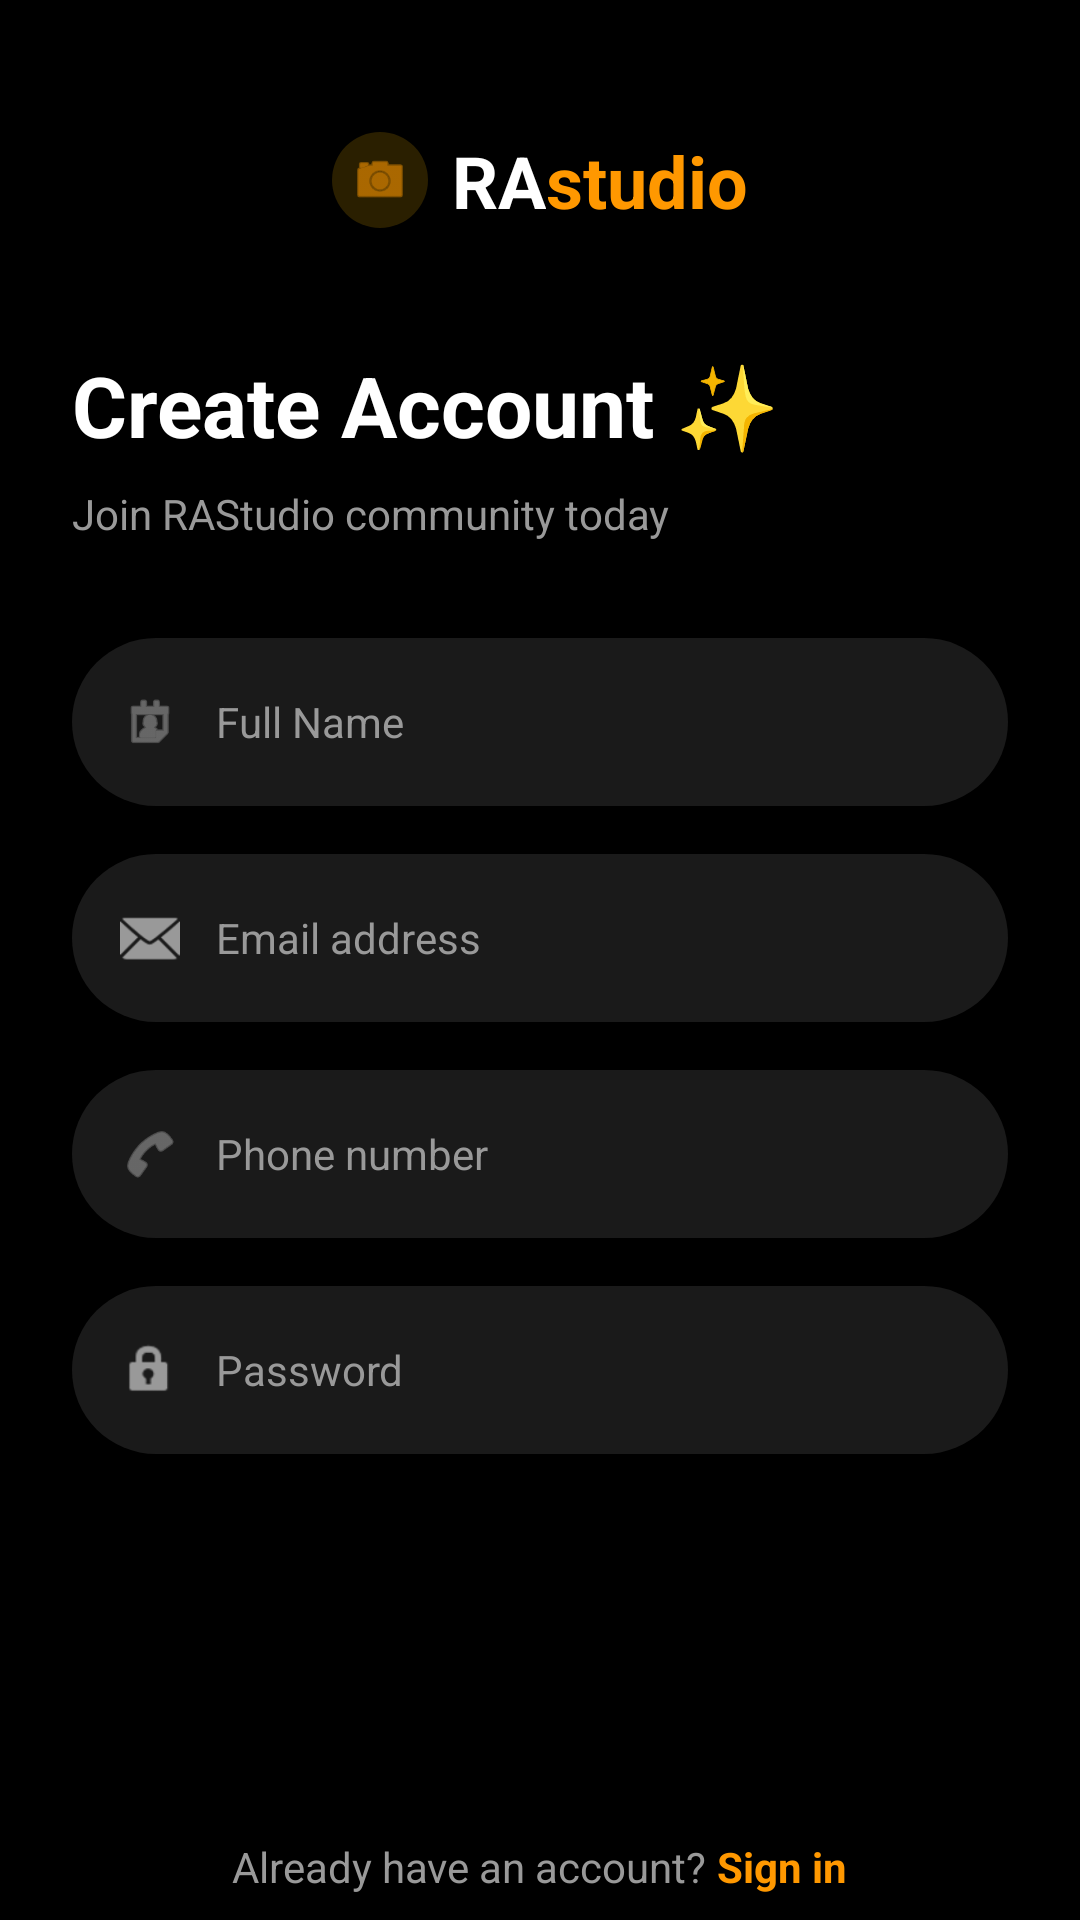

Icon click points for this 1080px x 1920px phone screenshot, format (x=x, y=y):
calendar: (x=150, y=721)
call: (x=150, y=1154)
camera: (x=380, y=180)
lock idle: (x=148, y=1368)
